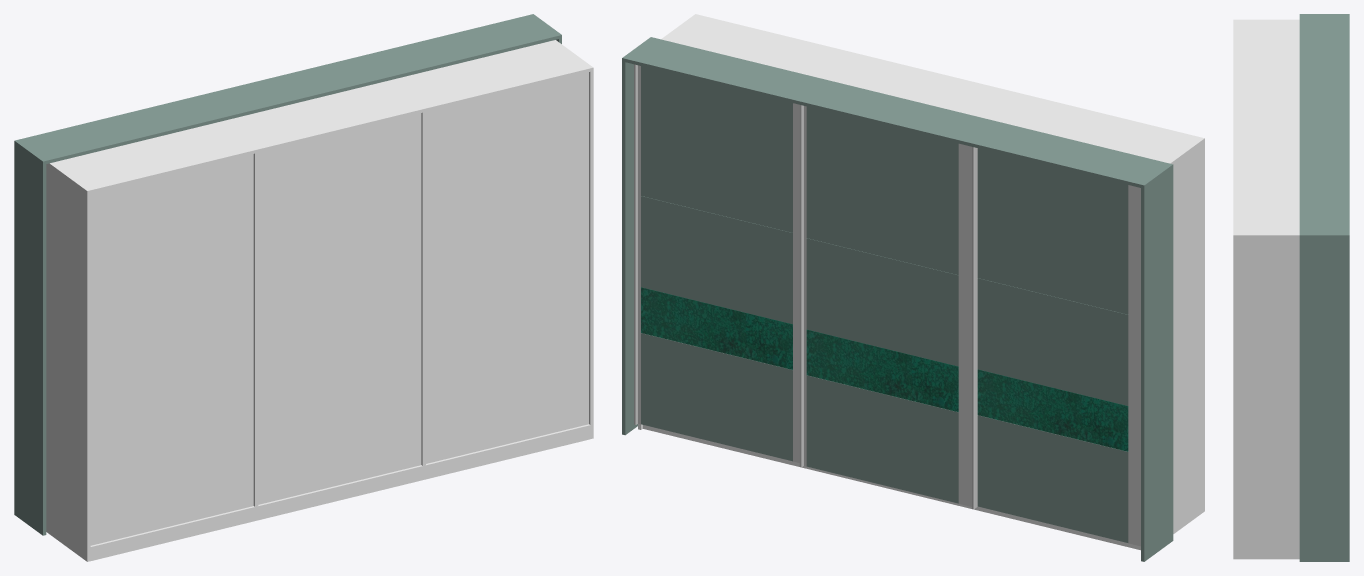
3 views of the same model, side by side, from view 1: azimuth 30°, elevation 25°; view 2: azimuth 150°, elevation 25°; view 3: azimuth 270°, elevation 25° (orthographic). The views are drawn at different scales.
Visible parts, largest first — view 1: frame, board_merged; view 2: panelMesh (×12), board_merged, frame, handleShadowDecalLeft (×3), handle (×3), handleShadowDecalRight (×2); view 3: frame, board_merged.
Boxes of the visible parts, x1,y1,x2,y2 form: frame: (46,40,593,561); board_merged: (14,14,561,535); panelMesh (×12): (641,66,1128,542); board_merged: (622,37,1173,561); frame: (638,14,1204,550); handleShadowDecalLeft (×3): (793,103,1140,546); handle (×3): (634,64,977,509); handleShadowDecalRight (×2): (638,65,806,466); frame: (1233,19,1299,559); board_merged: (1299,14,1349,561).
Bounding box in the file's own units: 3.08 × 2.12 × 0.684.
Materials: 12 (5 with a texture image).
